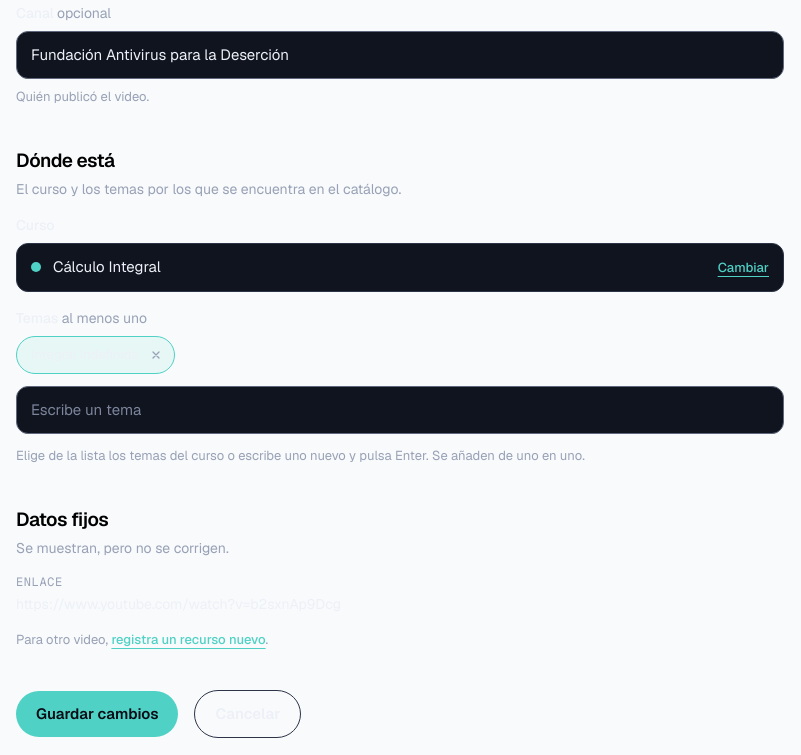
Test: EditResourcePage › si el backend rechaza la corrección por autoría, lo dice en un aviso
The image size is (801, 755).
(page scrolled)
Click the button "Guardar cambios".
click(97, 714)  # box [16, 691, 178, 737]
(page scrolled)
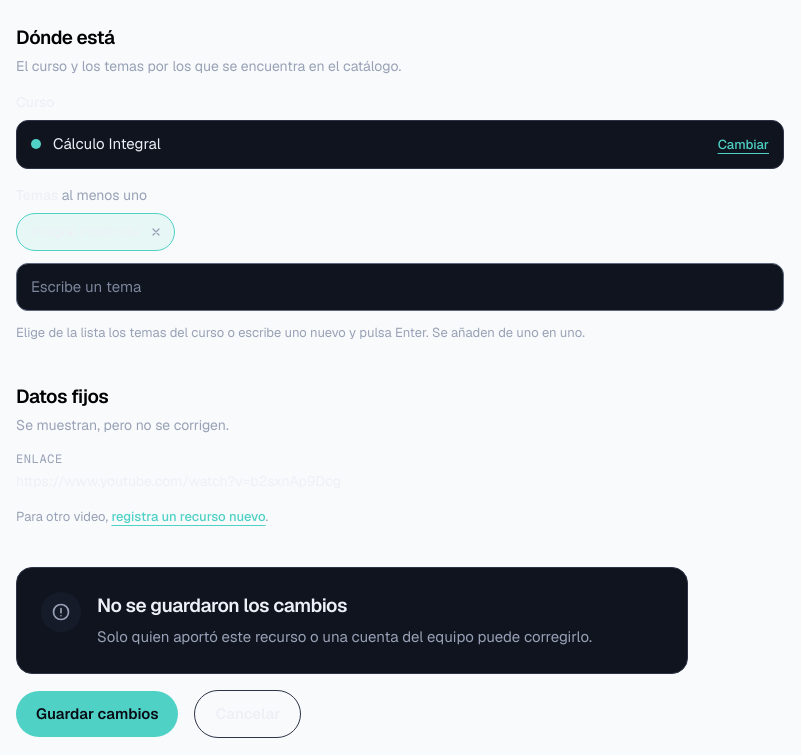
Check: the message shows "No se guardaron los cambios", box [97, 593, 347, 618]
Check: the message shows "Solo quien aportó este recurso o una cuenta del equipo puede corregirlo.", box [97, 627, 592, 646]
